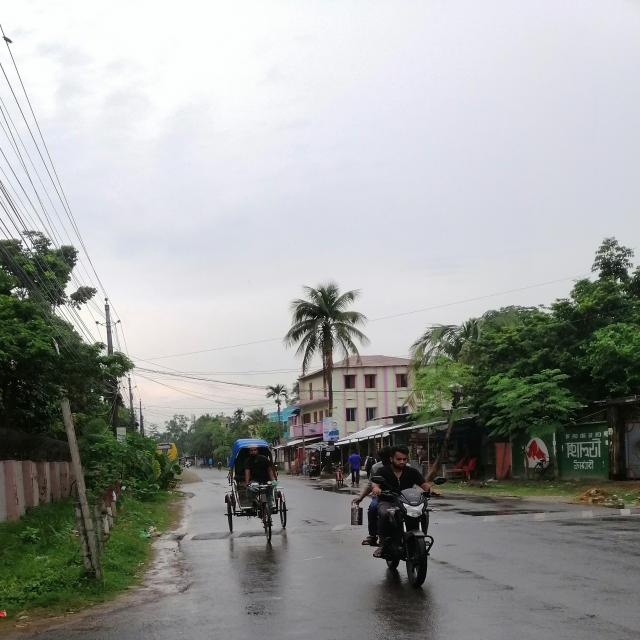Motorbike: (353, 472, 459, 585)
Rickshaw: (221, 431, 296, 546)
